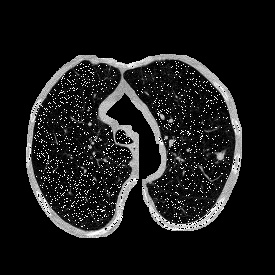PN: (217, 152, 225, 160)
